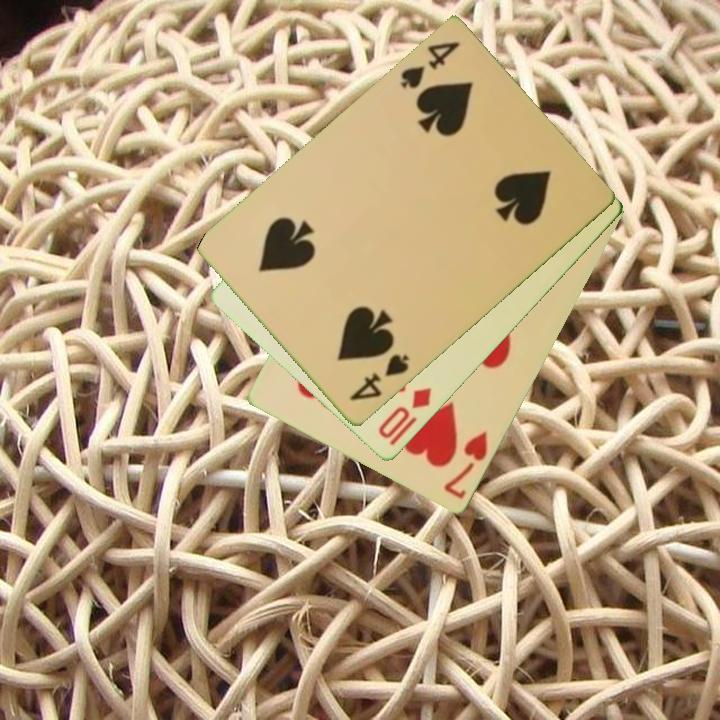10d: (374, 384, 435, 450)
4s: (396, 38, 463, 93), (346, 351, 412, 405)
7h: (440, 427, 491, 503)
